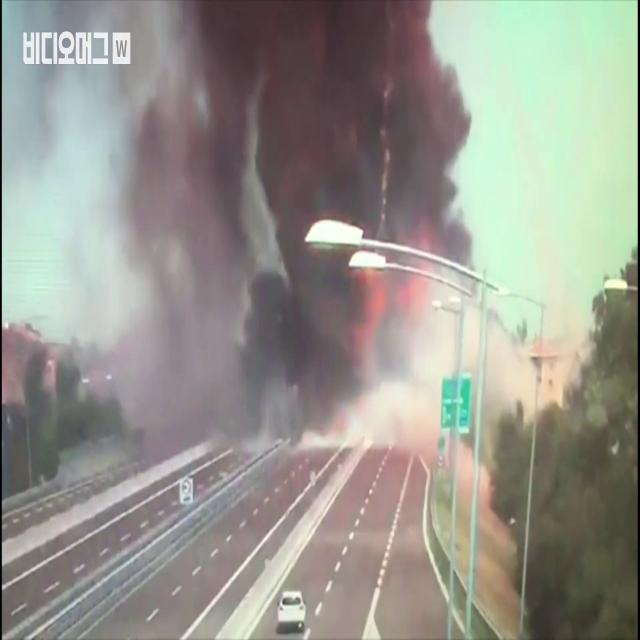explosion: (140, 6, 492, 477)
